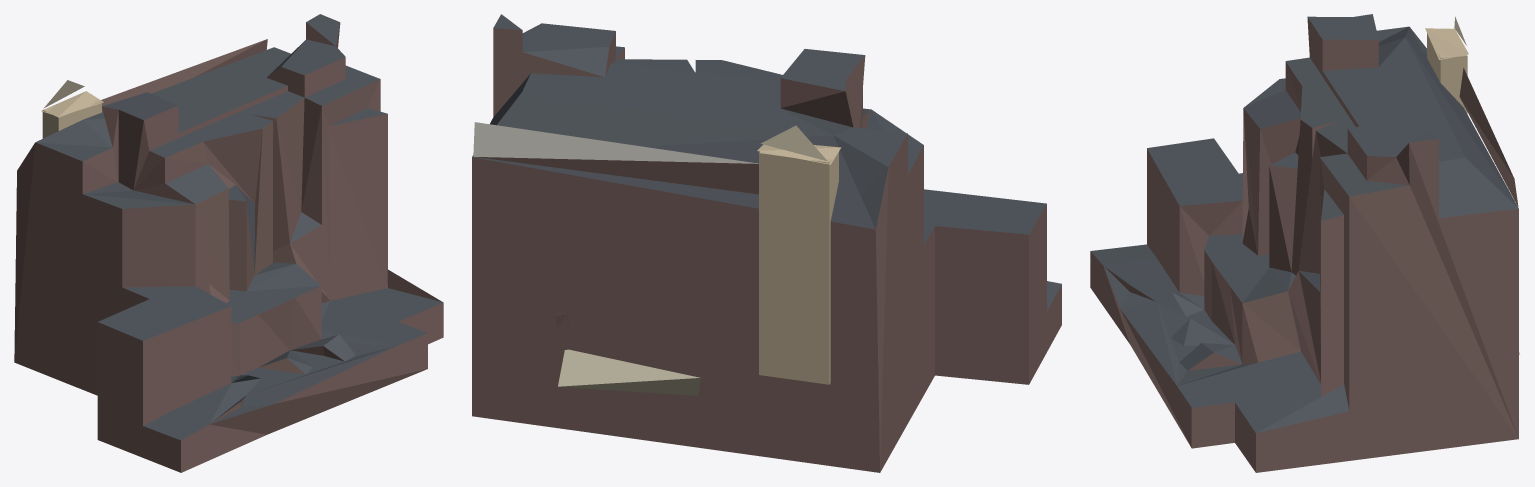
The model's file is schiller-rembrandtplein.lod2.glb.
3 renders of one model, left to right at view 1: azimuth 30°, elevation 25°; view 2: azimuth 150°, elevation 25°; view 3: azimuth 270°, elevation 25°, orthographic. The views are drawn at different scales.
Visible parts, largest first — view 1: lod2; view 2: lod2; view 3: lod2.
Part boxes in pixels (x1=…): lod2: x1=14, y1=14, x2=443, y2=472; lod2: x1=472, y1=14, x2=1061, y2=472; lod2: x1=1090, y1=14, x2=1519, y2=472.
Size of the model in its own units: 40.54 by 29.21 by 36.64.
